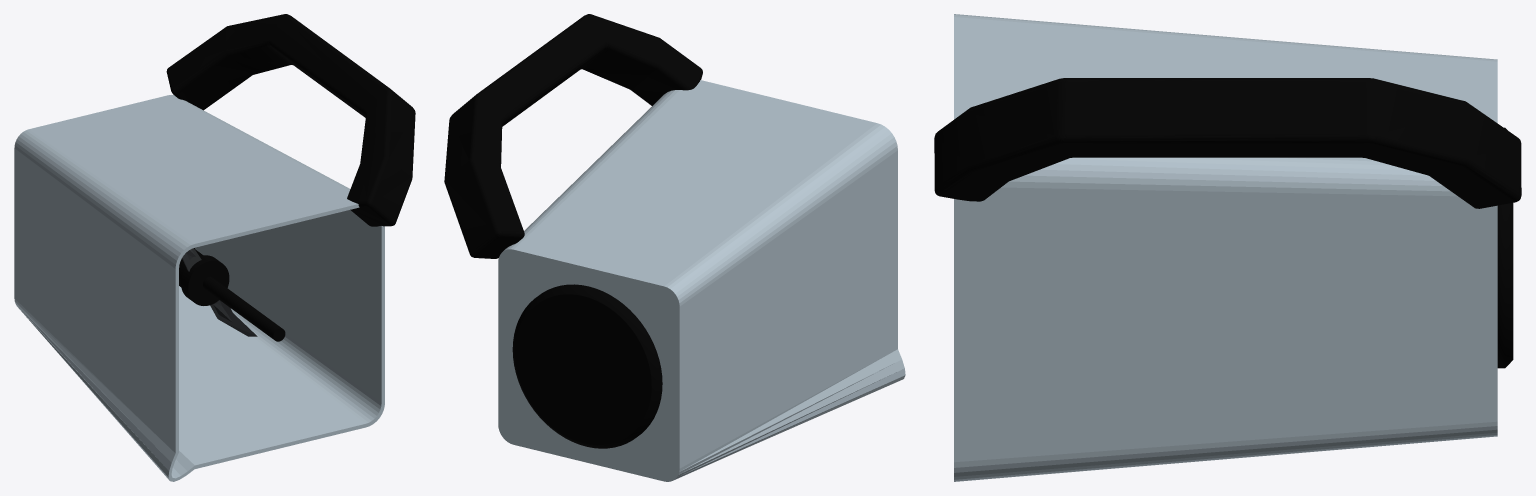
3 views of the same model, side by side, from view 1: azimuth 30°, elevation 25°; view 2: azimuth 150°, elevation 25°; view 3: azimuth 270°, elevation 25° (orthographic). The views are drawn at different scales.
Visible parts, largest first — view 1: __articraft_commit_0001_0000, __articraft_commit_0001_0002, __articraft_commit_0001_0003; view 2: __articraft_commit_0001_0000, __articraft_commit_0001_0002, __articraft_commit_0001_0001; view 3: __articraft_commit_0001_0000, __articraft_commit_0001_0002, __articraft_commit_0001_0001.
Part boxes in pixels (x1,y1,x2,y2): __articraft_commit_0001_0000: [14, 95, 384, 481]; __articraft_commit_0001_0002: [166, 14, 415, 226]; __articraft_commit_0001_0003: [179, 248, 285, 341]; __articraft_commit_0001_0000: [498, 80, 905, 481]; __articraft_commit_0001_0002: [444, 14, 702, 258]; __articraft_commit_0001_0001: [512, 284, 662, 448]; __articraft_commit_0001_0000: [954, 14, 1497, 481]; __articraft_commit_0001_0002: [934, 78, 1521, 208]; __articraft_commit_0001_0001: [1497, 127, 1513, 368].
Bounding box in the file's own units: 0.1784 × 0.1833 × 0.2142.
